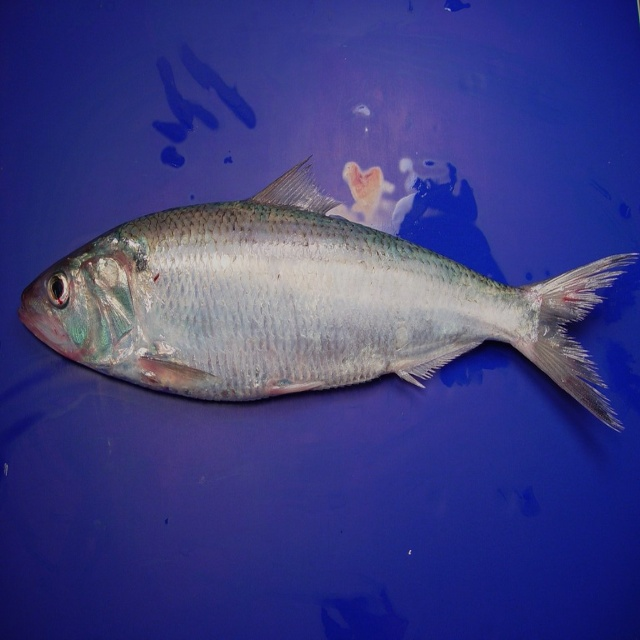Fish: (19, 157, 638, 435)
